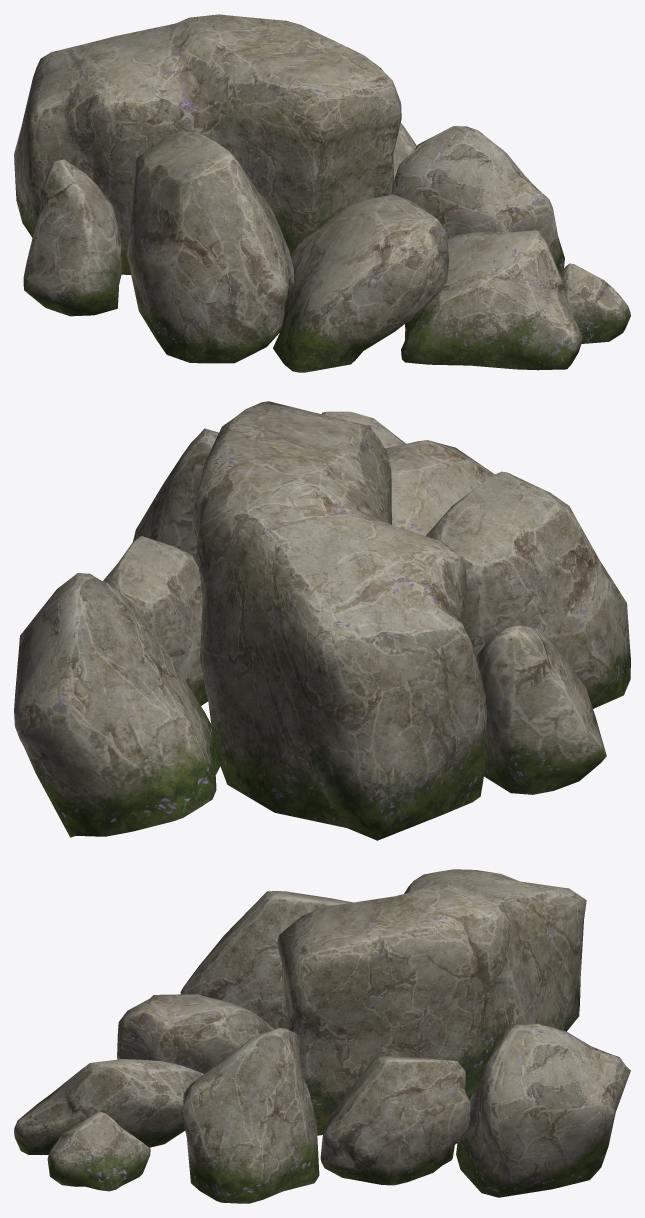
Rendered from Rock1.fbx.
The picture shows the model from 3 angles, top to bottom: view 1: azimuth 30°, elevation 25°; view 2: azimuth 150°, elevation 25°; view 3: azimuth 270°, elevation 25°; orthographic projection. The views are drawn at different scales.
Parts seen in each view (by area): view 1: SM_a_001_Rock_01a; view 2: SM_a_001_Rock_01a; view 3: SM_a_001_Rock_01a.
Part boxes in pixels (left/top/right/bottom): SM_a_001_Rock_01a: left=14, top=14, right=630, bottom=372; SM_a_001_Rock_01a: left=14, top=401, right=630, bottom=840; SM_a_001_Rock_01a: left=14, top=869, right=630, bottom=1203.
Size of the model in its own units: 786 by 421 by 971.
